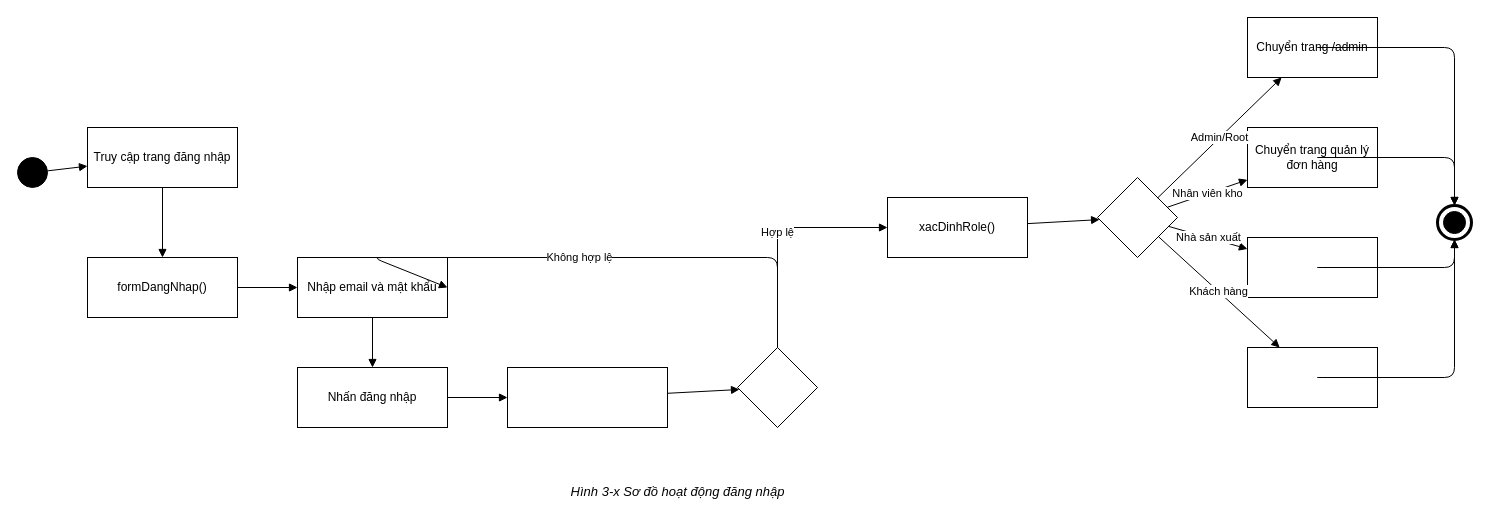
Image size: 1490x525. Some labels were removed from this diagram. Each missing label, with the box of its shape:
Chuyển trang báo giá NSX: (1246, 236, 1378, 298)
Chuyển trang chủ: (1246, 346, 1378, 408)
kiemTraThongTin(): (506, 366, 668, 428)
